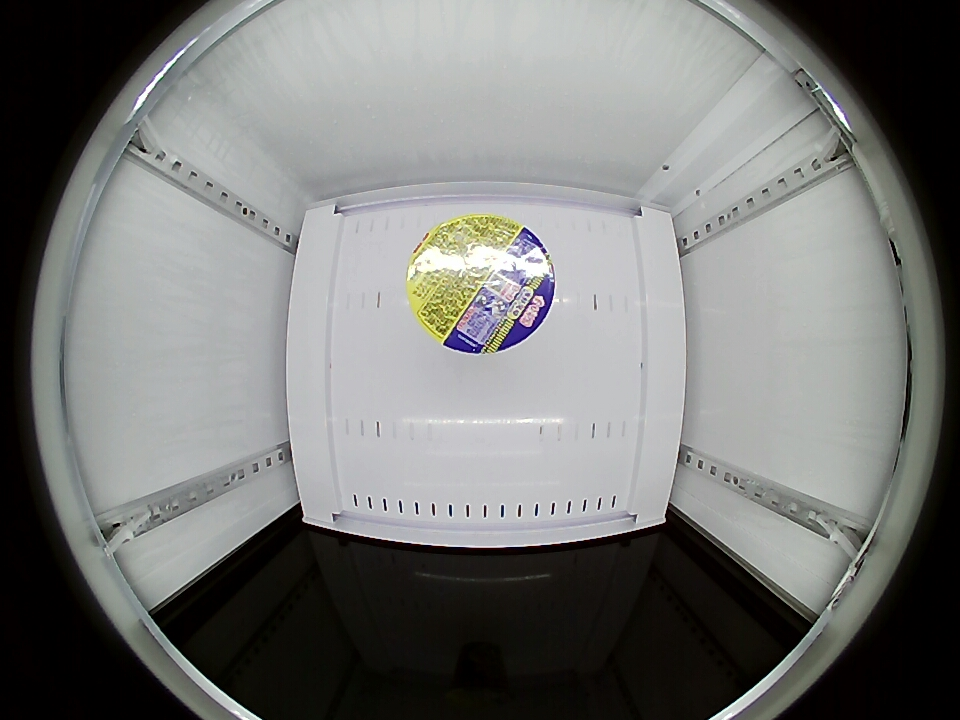heweidao: (407, 213, 555, 354)
